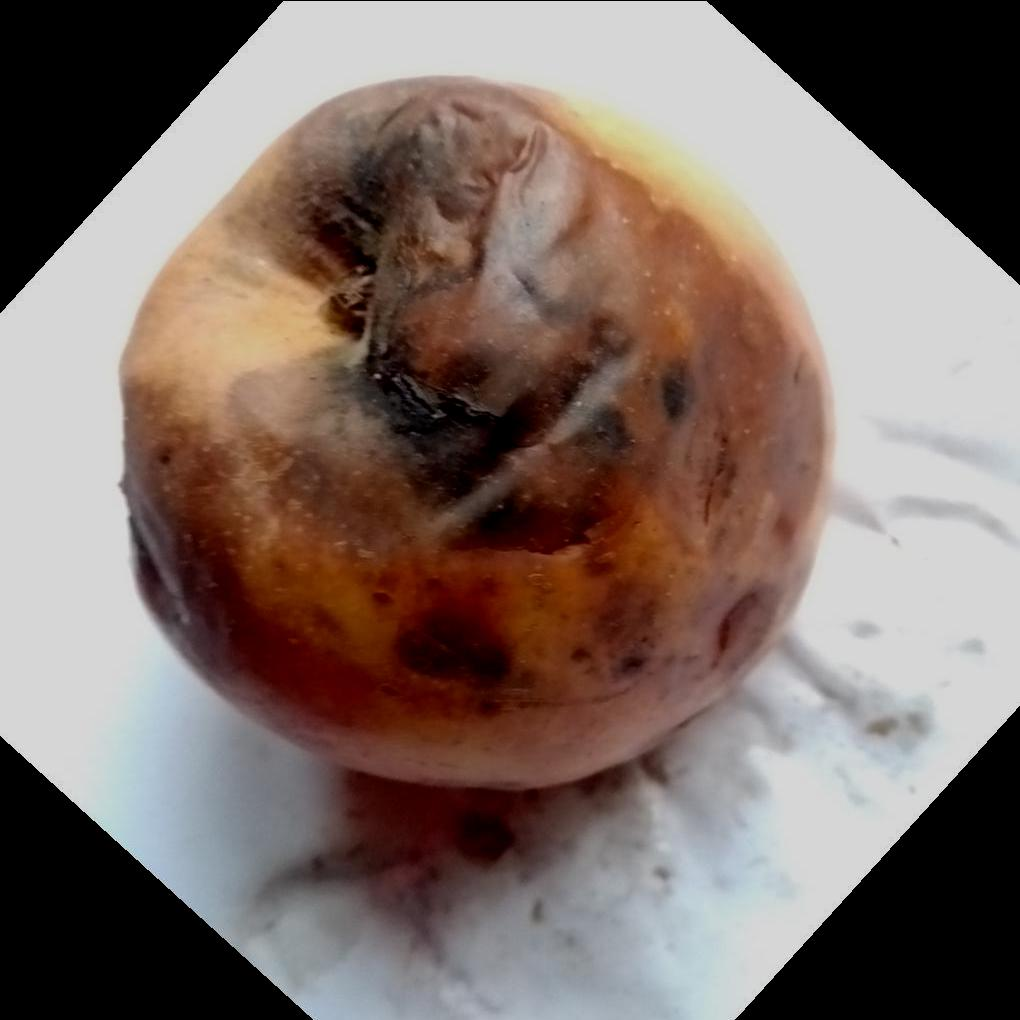FreshOrange: (120, 73, 836, 792)
